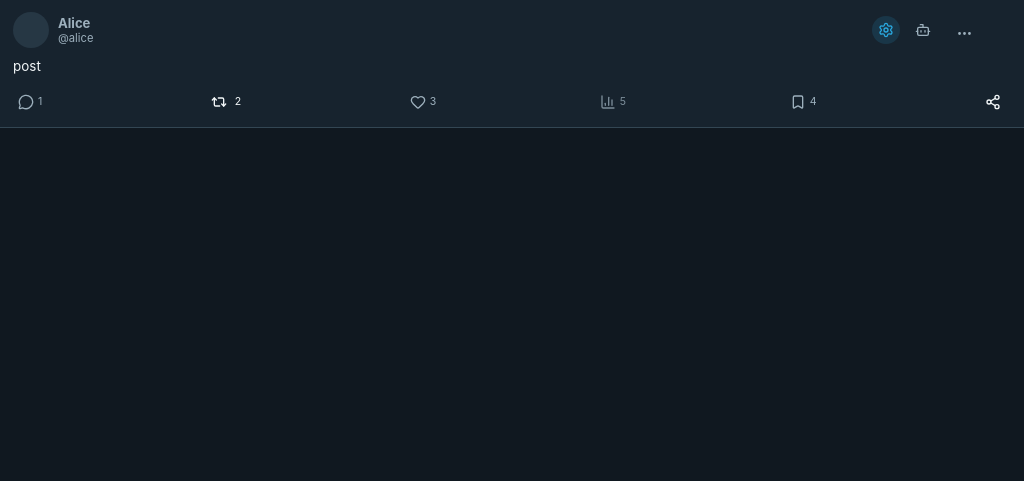
post actions › completes independent user menu actions immediately while requests remain pending
The width and height of the screenshot is (1024, 481).
Click the button named "ポストメニュー" at (960, 30), box [946,16,974,44]
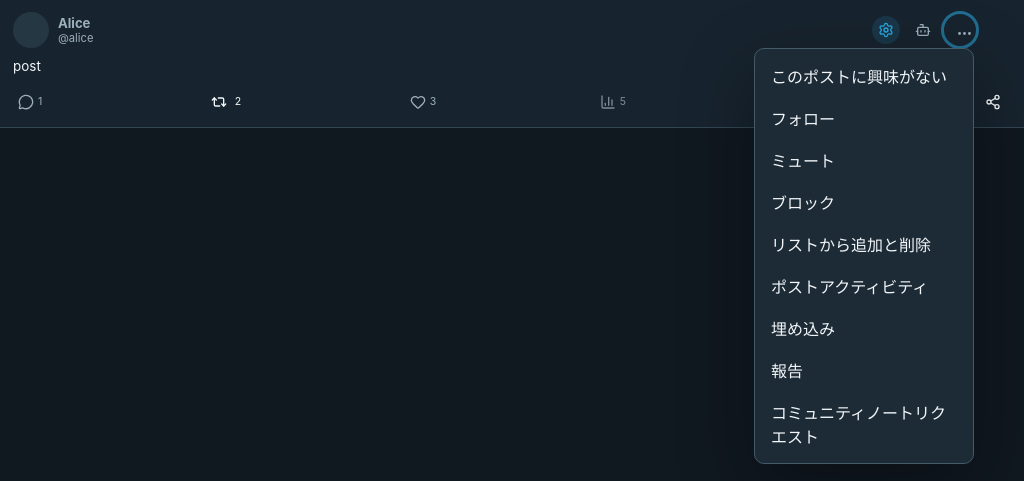
Click the menu item "フォロー" at (864, 118), box [761,97,967,139]
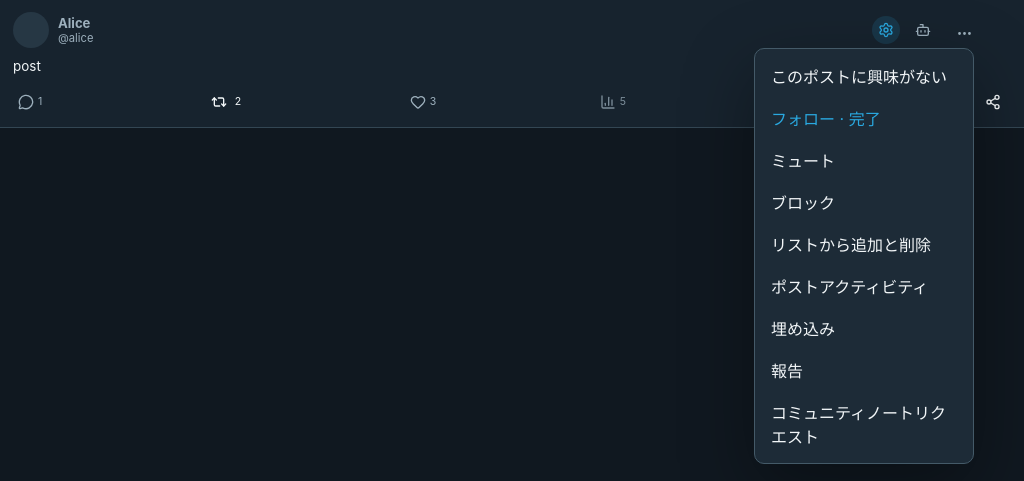
Check: the menu item "フォロー · 完了" has attribute aria-busy="true", box [761,97,967,139]
Click the menu item "ミュート" at (864, 160), box [761,139,967,181]
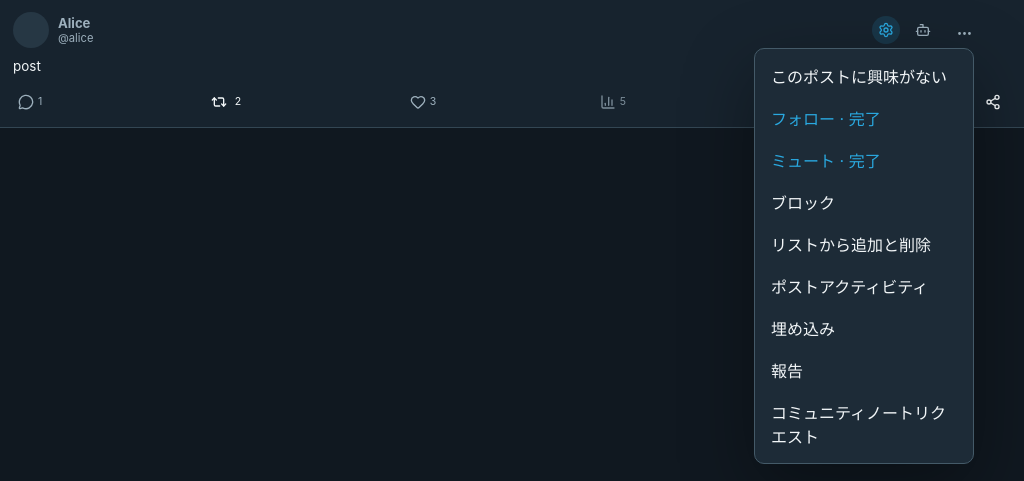
Check: the menu item "ミュート · 完了" is shown, box [761,139,967,181]
